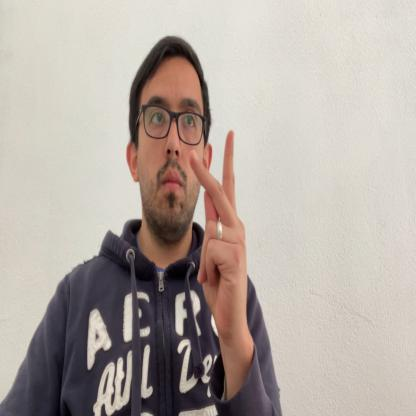P: (190, 130, 248, 347)
